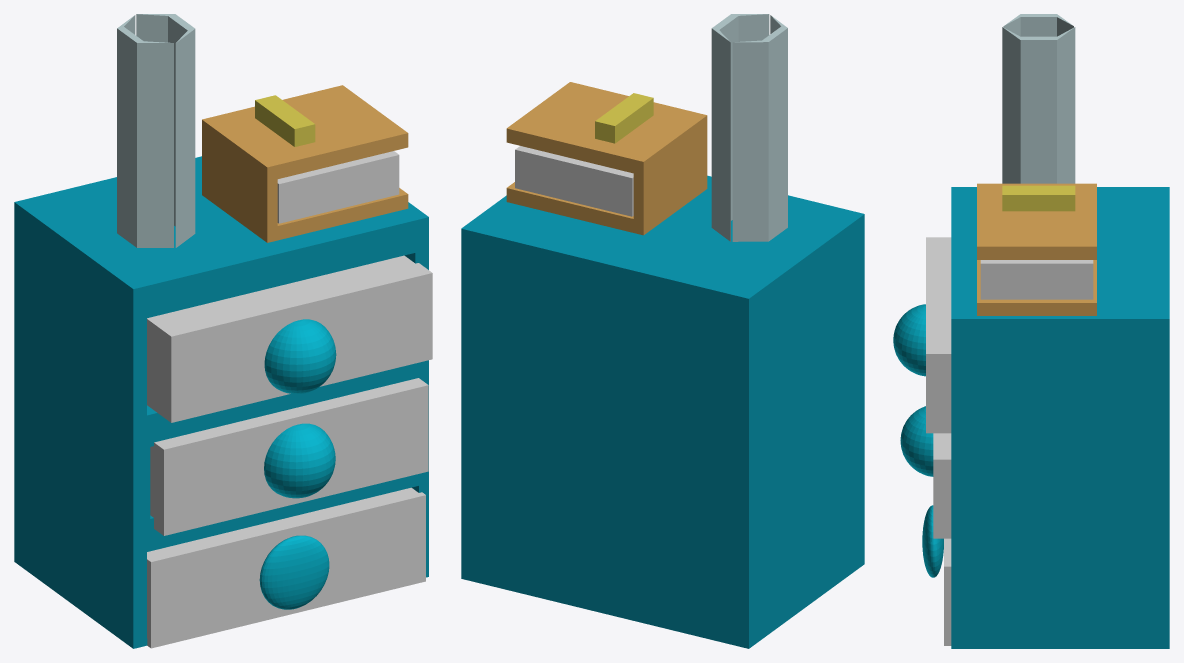
The model's file is Side Table Model.glb.
3 views of the same model, side by side, from view 1: azimuth 30°, elevation 25°; view 2: azimuth 150°, elevation 25°; view 3: azimuth 270°, elevation 25° (orthographic). The views are drawn at different scales.
Visible parts, largest first — view 1: Mesh_Mesh_head_geo.001_lambert2SG.001; view 2: Mesh_Mesh_head_geo.001_lambert2SG.001; view 3: Mesh_Mesh_head_geo.001_lambert2SG.001.
Part boxes in pixels (x1=…): Mesh_Mesh_head_geo.001_lambert2SG.001: x1=14, y1=14, x2=432, y2=648; Mesh_Mesh_head_geo.001_lambert2SG.001: x1=461, y1=14, x2=864, y2=648; Mesh_Mesh_head_geo.001_lambert2SG.001: x1=893, y1=14, x2=1169, y2=648.
Bounding box in the file's own units: 86 × 158 × 76.
